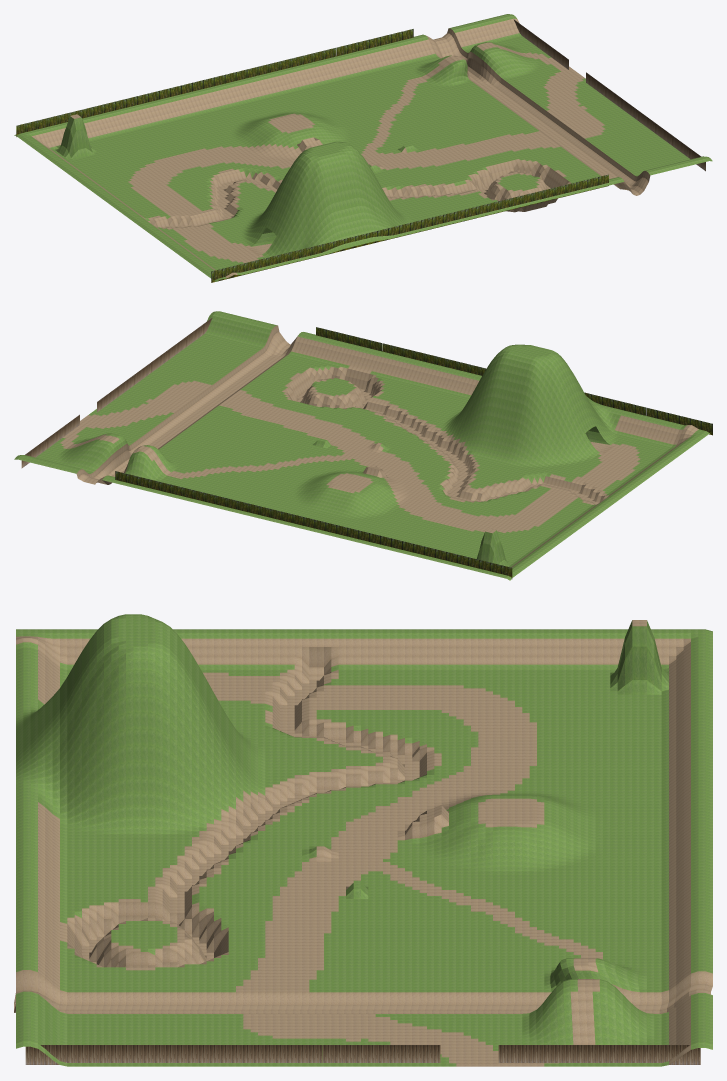
The model's file is Map1.gltf.
The picture shows the model from 3 angles, top to bottom: view 1: azimuth 30°, elevation 25°; view 2: azimuth 150°, elevation 25°; view 3: azimuth 270°, elevation 25°; orthographic projection. The views are drawn at different scales.
Parts seen in each view (by area): view 1: map, ForestWall.001, ForestWall, Plane.001; view 2: map, ForestWall, ForestWall.001, Plane.001; view 3: map, Plane.001.
Part boxes in pixels (<box>): map: <box>14,14,712,281</box>; ForestWall.001: <box>211,174,608,282</box>; ForestWall: <box>16,29,413,136</box>; Plane.001: <box>514,19,705,171</box>; map: <box>14,311,709,580</box>; ForestWall: <box>115,471,512,578</box>; ForestWall.001: <box>316,327,712,435</box>; Plane.001: <box>21,317,212,468</box>; map: <box>14,614,712,1066</box>; Plane.001: <box>25,1045,700,1064</box>.
Bounding box in the file's own units: 272 × 49.17 × 191.
5 materials, 5 textured.
